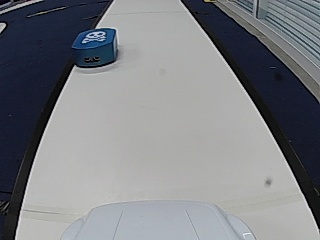danger: (80, 30, 105, 43)
